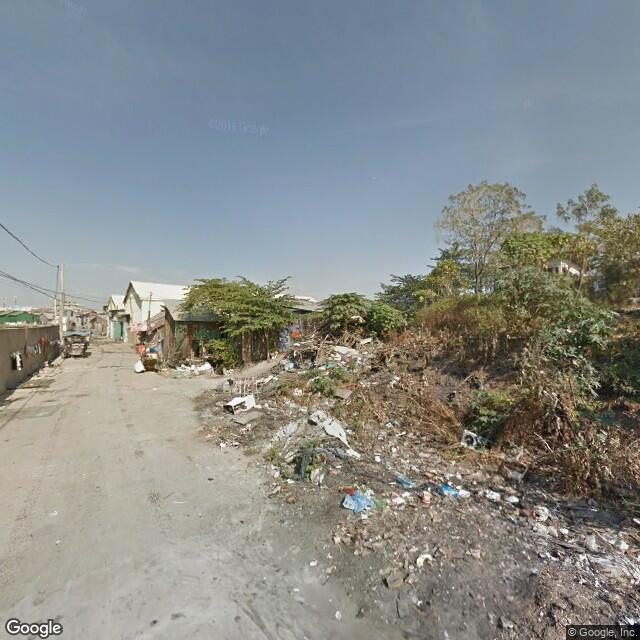litter: (272, 413, 351, 477), (400, 472, 468, 499), (327, 532, 386, 557), (342, 484, 375, 518), (456, 424, 493, 454), (214, 397, 261, 411), (413, 549, 436, 570), (529, 498, 549, 520)
